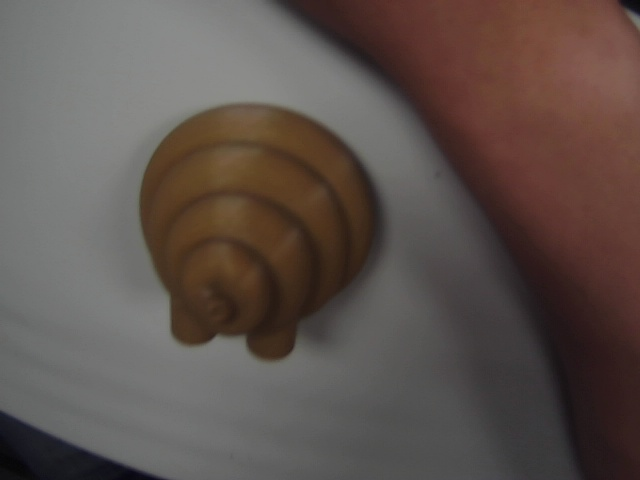shit: (124, 98, 390, 370)
